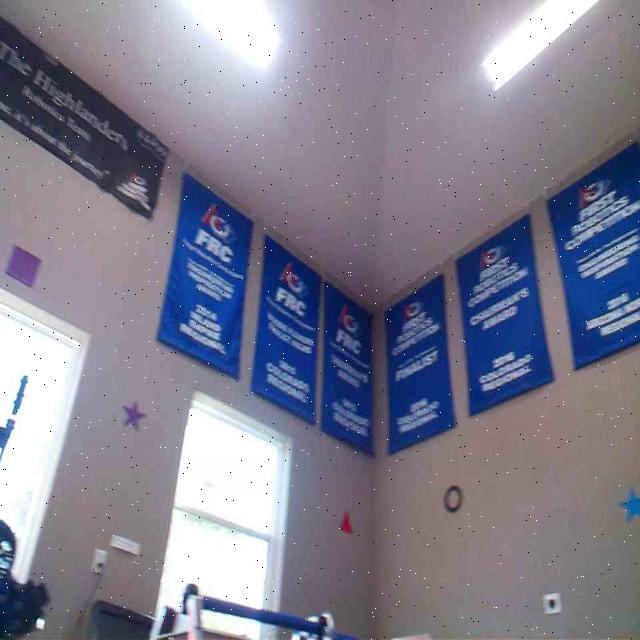ring_black: (442, 484, 462, 510)
square_purple: (4, 245, 42, 287)
star_blue: (620, 489, 640, 526)
star_purple: (122, 400, 144, 430)
triangle_red: (338, 509, 353, 534)
